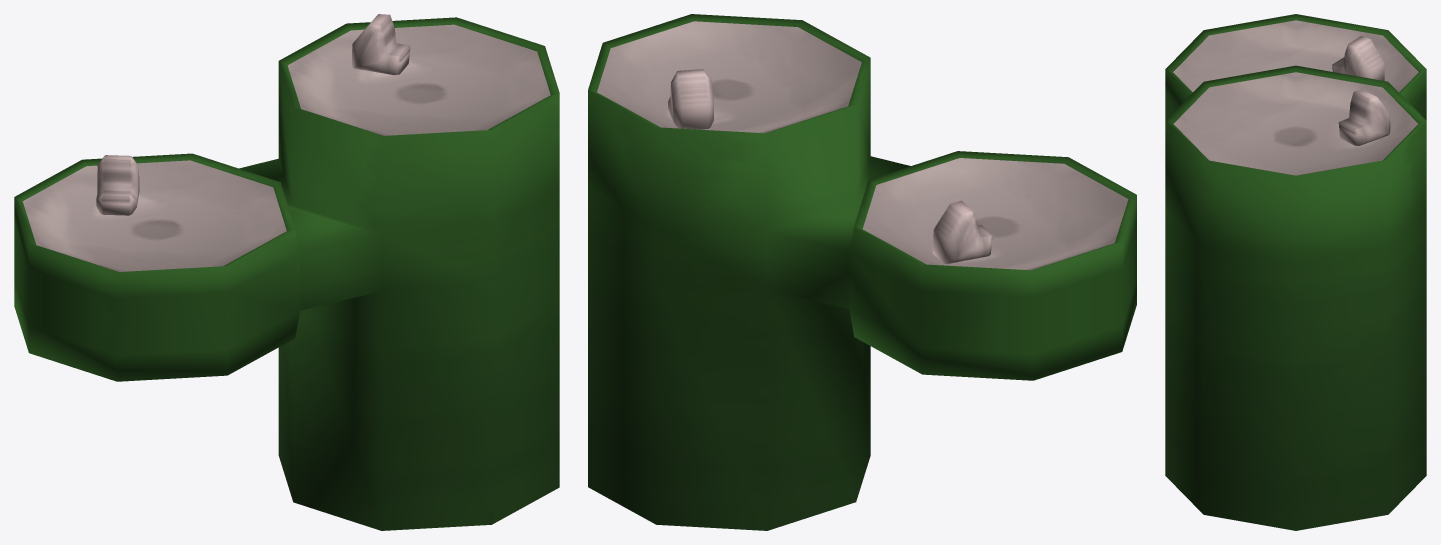
File: drinkingfountain.fbx
3 views of the same model, side by side, from view 1: azimuth 30°, elevation 25°; view 2: azimuth 150°, elevation 25°; view 3: azimuth 270°, elevation 25° (orthographic). The views are drawn at different scales.
Visible parts, largest first — view 1: water fountain; view 2: water fountain; view 3: water fountain.
Boxes of the visible parts, bbox=[...] form: water fountain: bbox=[14, 14, 559, 530]; water fountain: bbox=[588, 14, 1136, 530]; water fountain: bbox=[1165, 14, 1426, 530].
Bounding box in the file's own units: 93.43 × 73.41 × 45.58.
